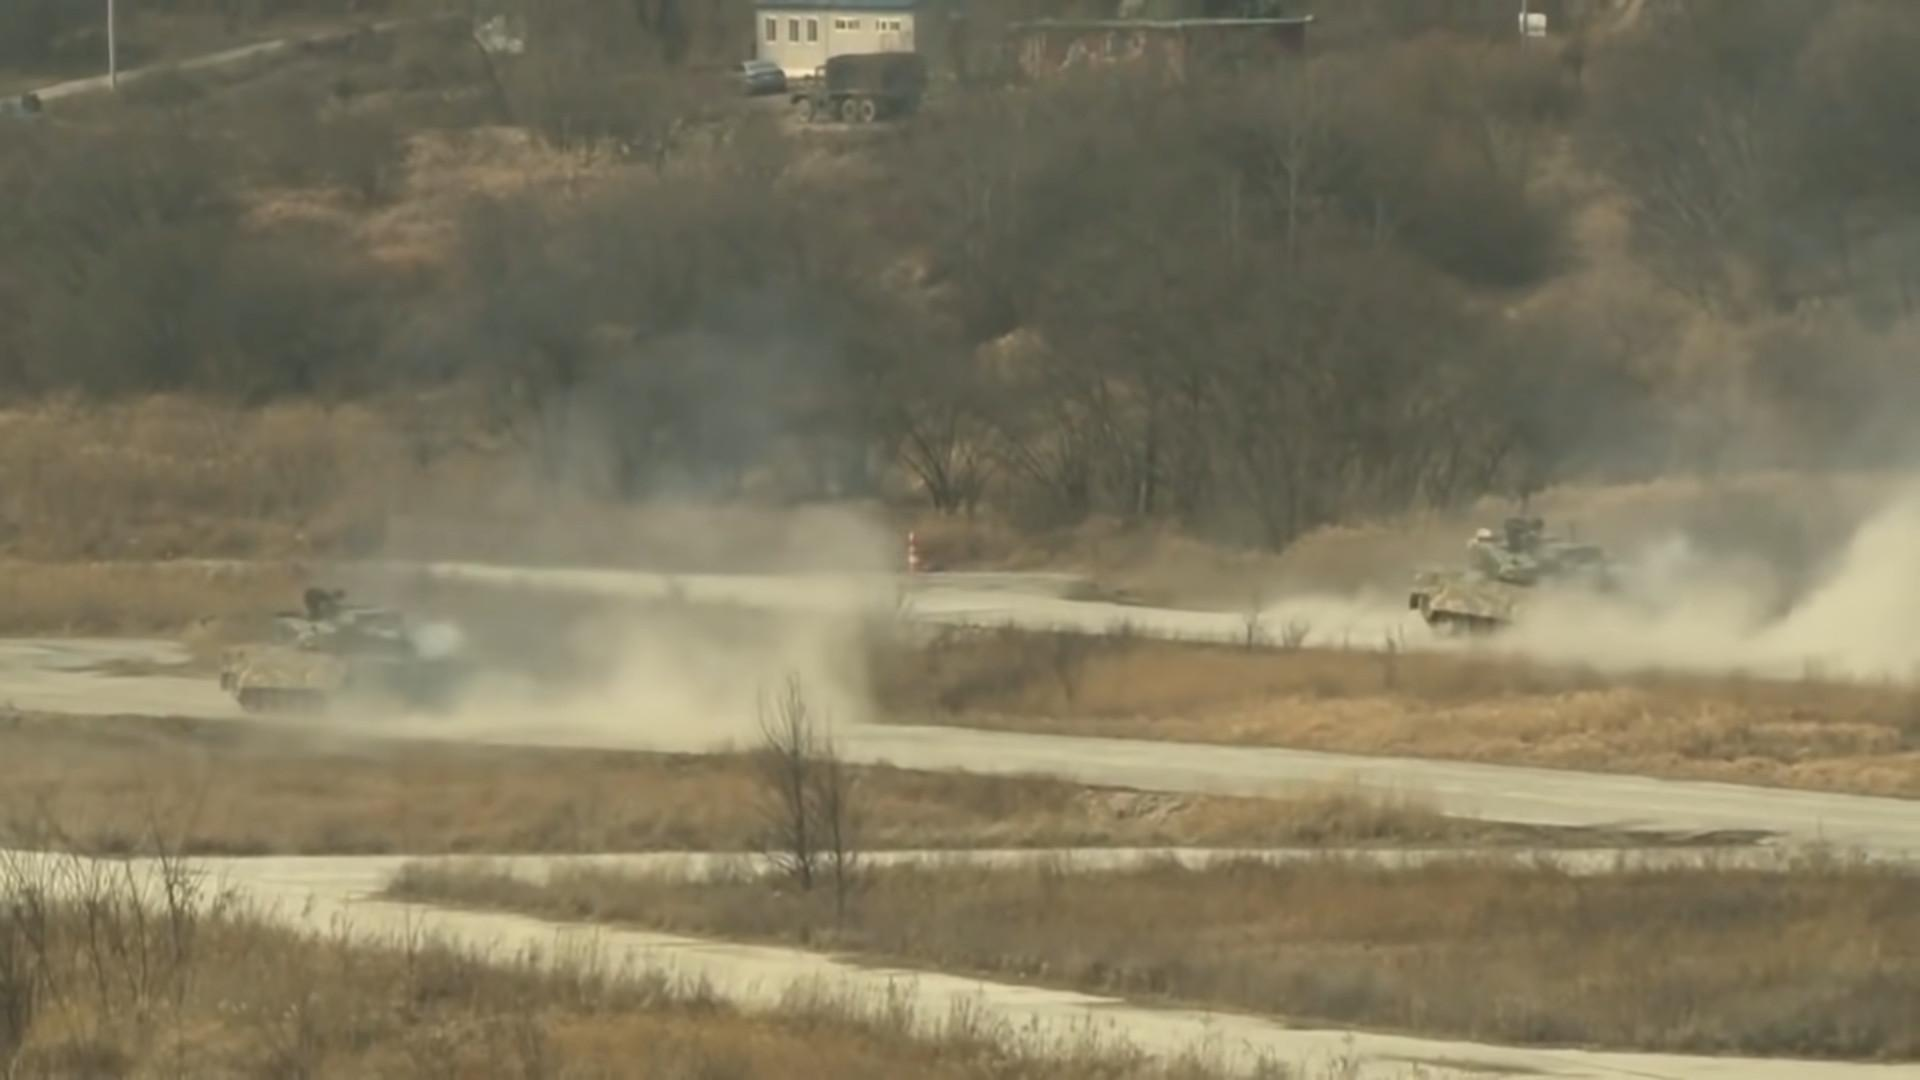tank: (218, 587, 479, 717), (1411, 513, 1630, 640)
